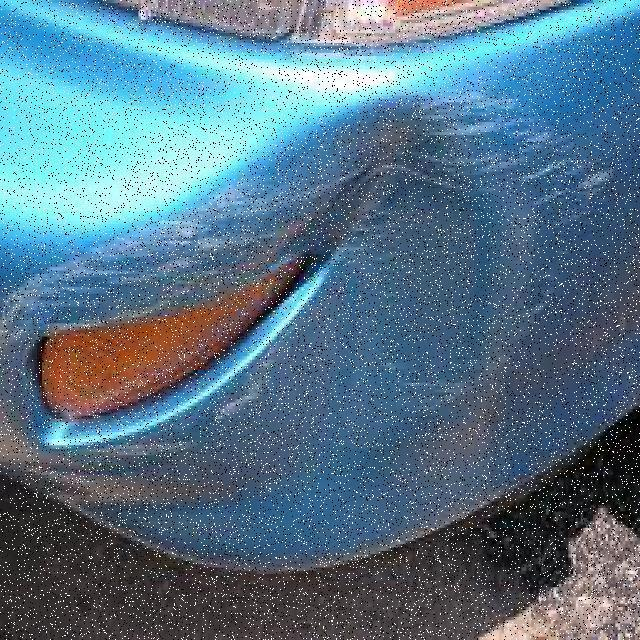front-bumper-dent: (0, 0, 638, 541)
